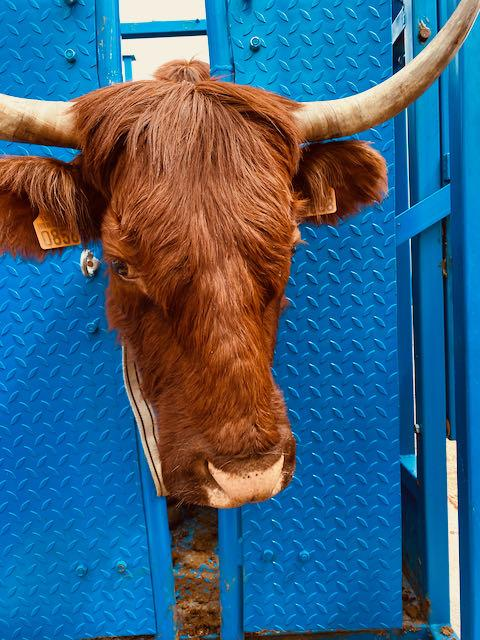muzzles: (177, 445, 313, 509)
